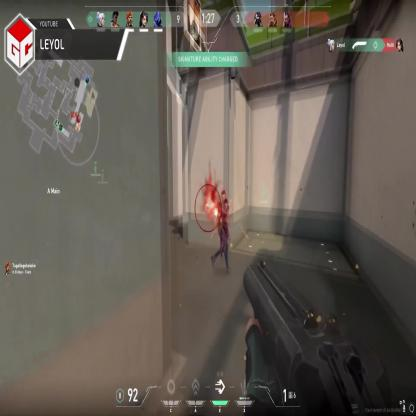enemy: (212, 188, 230, 272)
enemy_head: (221, 192, 226, 204)
